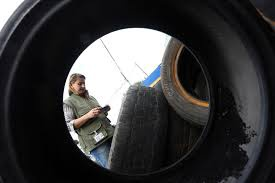tire: (156, 17, 275, 131), (101, 80, 169, 179)
